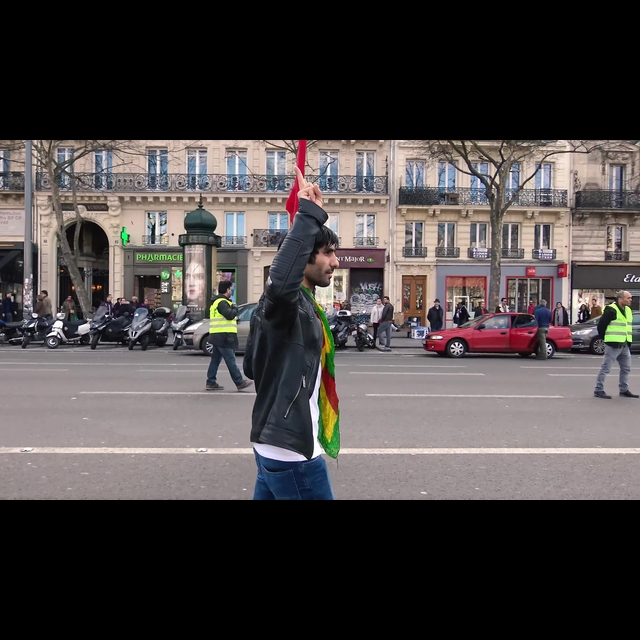ZI: (284, 163, 337, 218)
